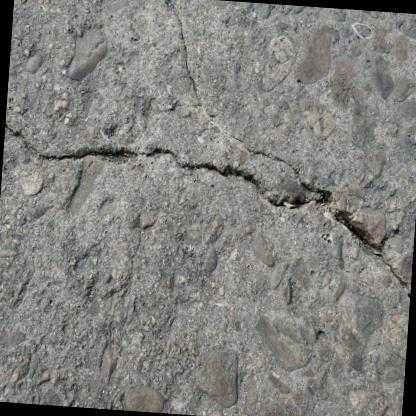crack: (4, 119, 411, 302), (158, 0, 315, 193)
